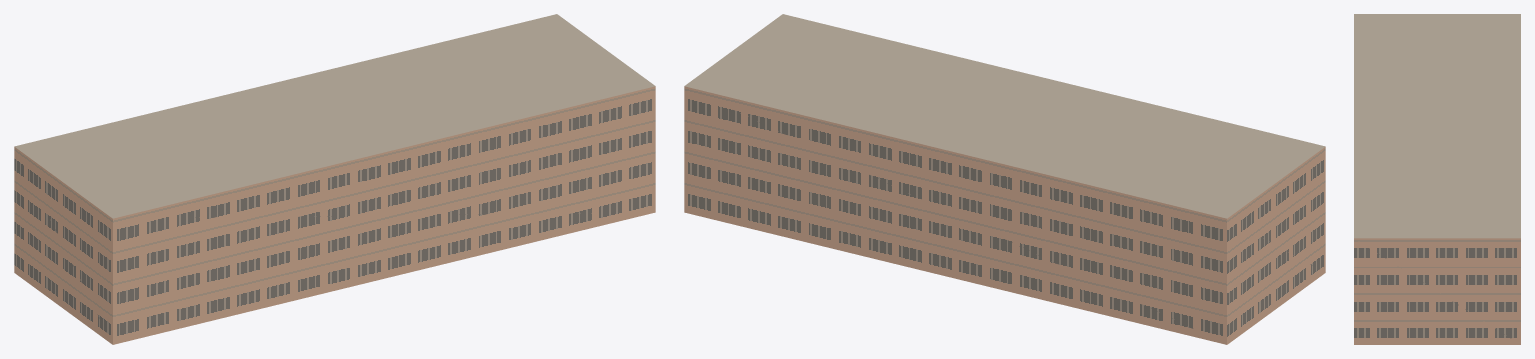
Rendered from wide-hall.glb.
3 renders of one model, left to right at view 1: azimuth 30°, elevation 25°; view 2: azimuth 150°, elevation 25°; view 3: azimuth 270°, elevation 25°, orthographic. The views are drawn at different scales.
Parts seen in each view (by area): view 1: Wide hall; view 2: Wide hall; view 3: Wide hall.
Part boxes in pixels (x1,y1,x2,y2): Wide hall: (14, 14, 655, 344); Wide hall: (684, 14, 1325, 344); Wide hall: (1354, 14, 1520, 344).
Bounding box in the file's own units: 54 × 12 × 17.
2 materials, 1 textured.
